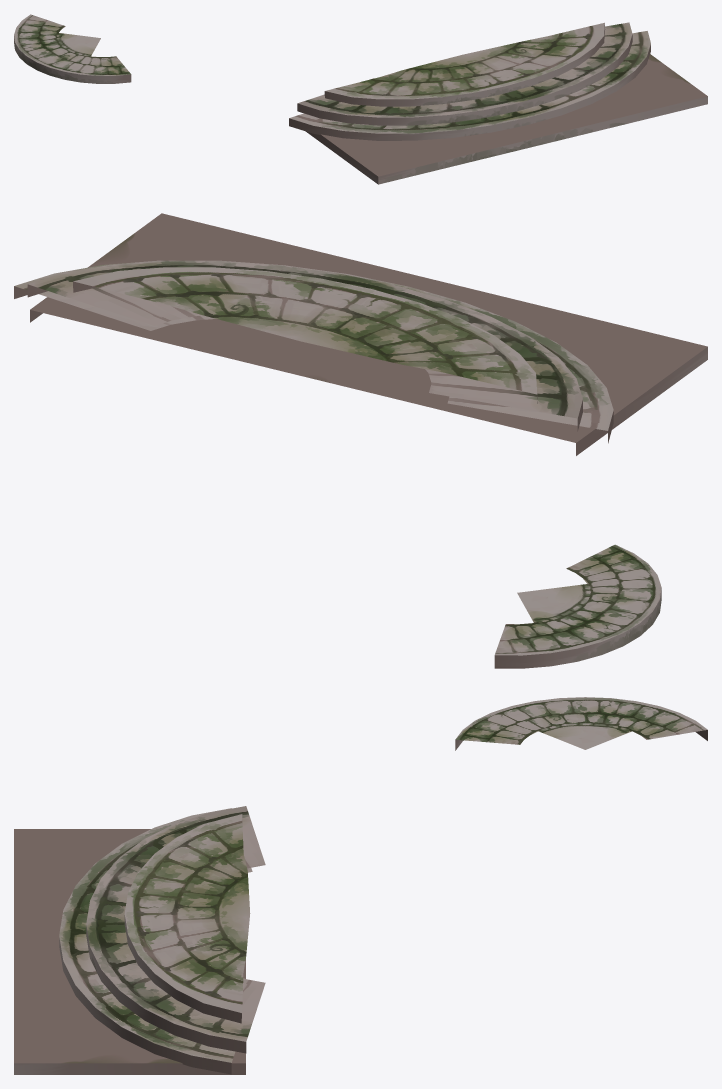
The model's file is Stairs.FBX.
3 renders of one model, top to bottom at view 1: azimuth 30°, elevation 25°; view 2: azimuth 150°, elevation 25°; view 3: azimuth 270°, elevation 25°, orthographic. The views are drawn at different scales.
Visible parts, largest first — view 1: Stairs, Stairs 2; view 2: Stairs, Stairs 2; view 3: Stairs, Stairs 2.
Boxes of the visible parts, x1=… form: Stairs: x1=289, y1=22, x2=707, y2=184; Stairs 2: x1=14, y1=14, x2=131, y2=83; Stairs: x1=14, y1=213, x2=707, y2=455; Stairs 2: x1=494, y1=544, x2=661, y2=668; Stairs: x1=14, y1=806, x2=265, y2=1074; Stairs 2: x1=455, y1=697, x2=707, y2=750.
Bounding box in the file's own units: 1152 × 66.62 × 951.
